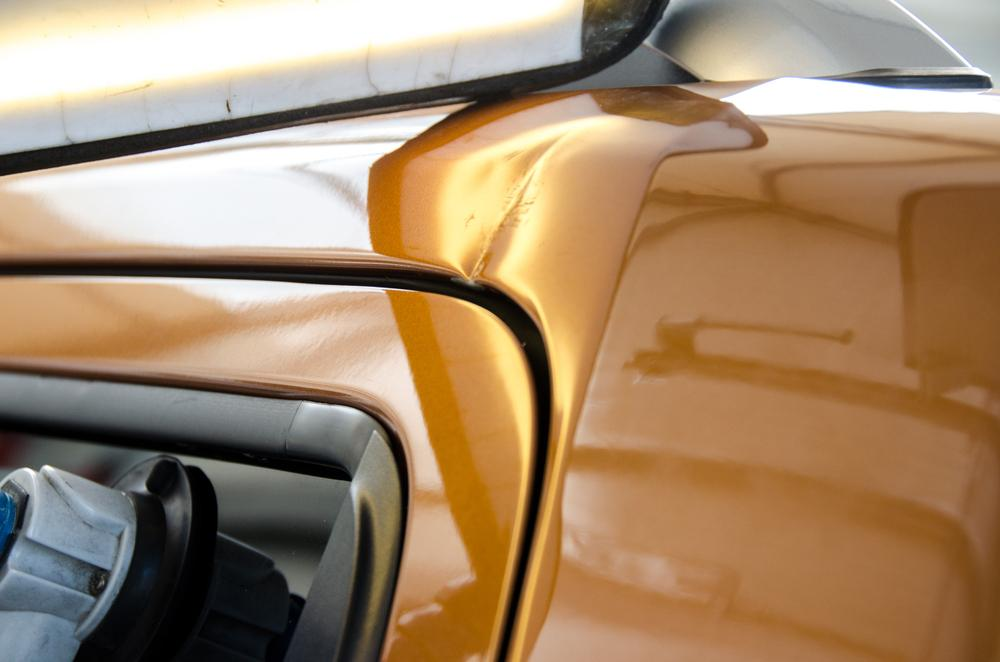dent: (448, 125, 582, 284)
